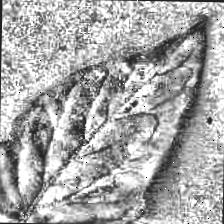leaf mold: (0, 11, 207, 224)
